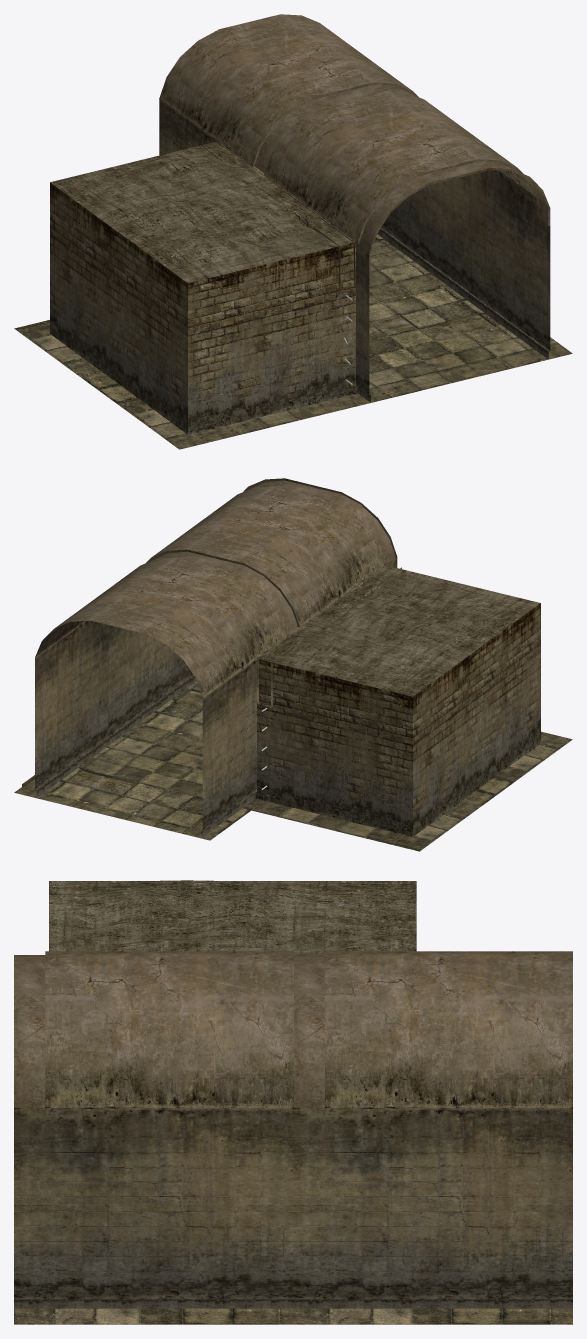
The model's file is #LVL_Basement_jail.fbx.
The picture shows the model from 3 angles, top to bottom: view 1: azimuth 30°, elevation 25°; view 2: azimuth 150°, elevation 25°; view 3: azimuth 270°, elevation 25°; orthographic projection. The views are drawn at different scales.
Parts seen in each view (by area): view 1: Cube_017; view 2: Cube_017; view 3: Cube_017.
Part boxes in pixels (x1,y1,x2,y2): Cube_017: [14, 14, 572, 449]; Cube_017: [14, 478, 572, 851]; Cube_017: [14, 880, 572, 1324].
Size of the model in its own units: 38.97 by 19.68 by 36.
